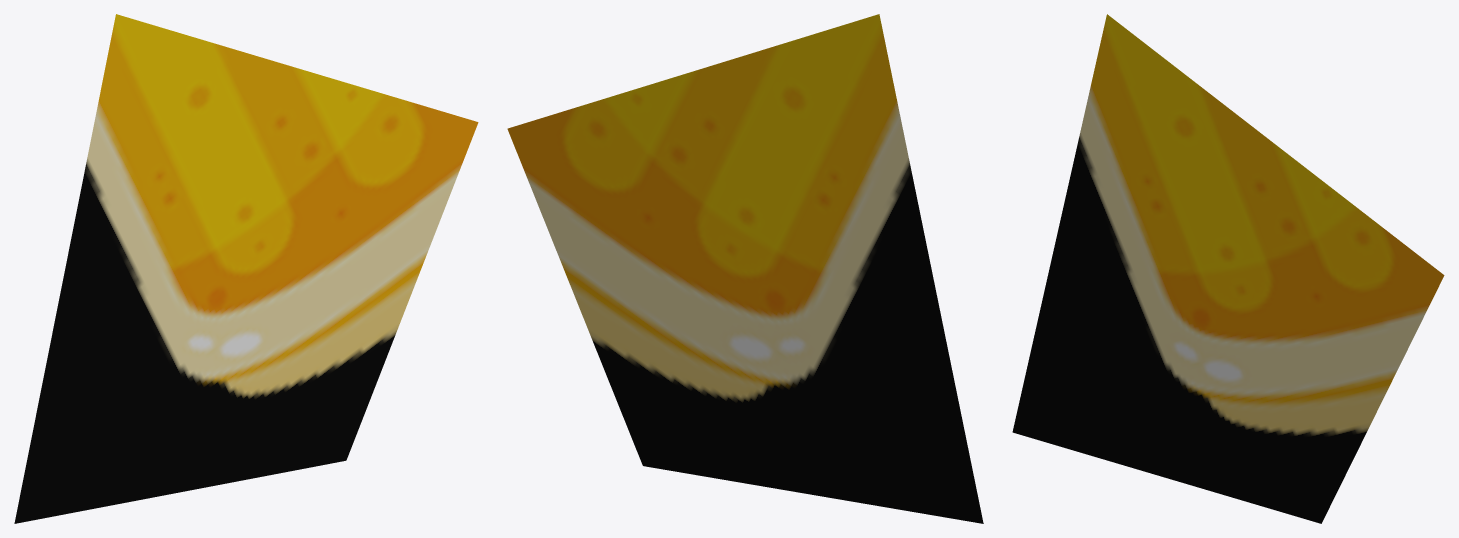
The model's file is Sticker_04_Art.fbx.
The picture shows the model from 3 angles, left to right: view 1: azimuth 30°, elevation 25°; view 2: azimuth 150°, elevation 25°; view 3: azimuth 330°, elevation 25°; orthographic projection. The views are drawn at different scales.
Visible parts, largest first — view 1: Sticker_04; view 2: Sticker_04; view 3: Sticker_04.
Part boxes in pixels (x1,y1,x2,y2): Sticker_04: (14, 14, 478, 523); Sticker_04: (507, 14, 983, 523); Sticker_04: (1012, 14, 1444, 523).
Size of the model in its own units: 2.54 by 2.62 by 0.0497.
